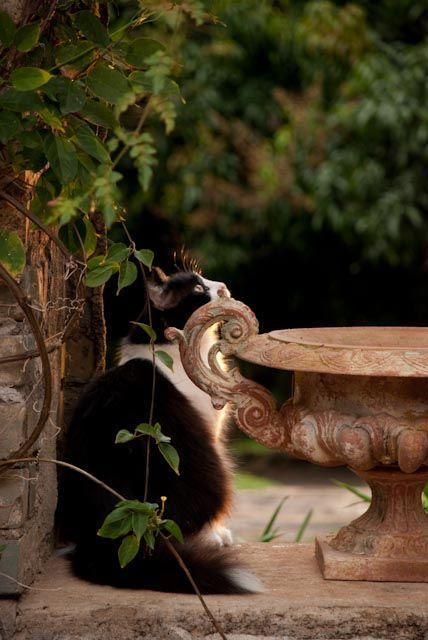kedo: (52, 271, 262, 598)
